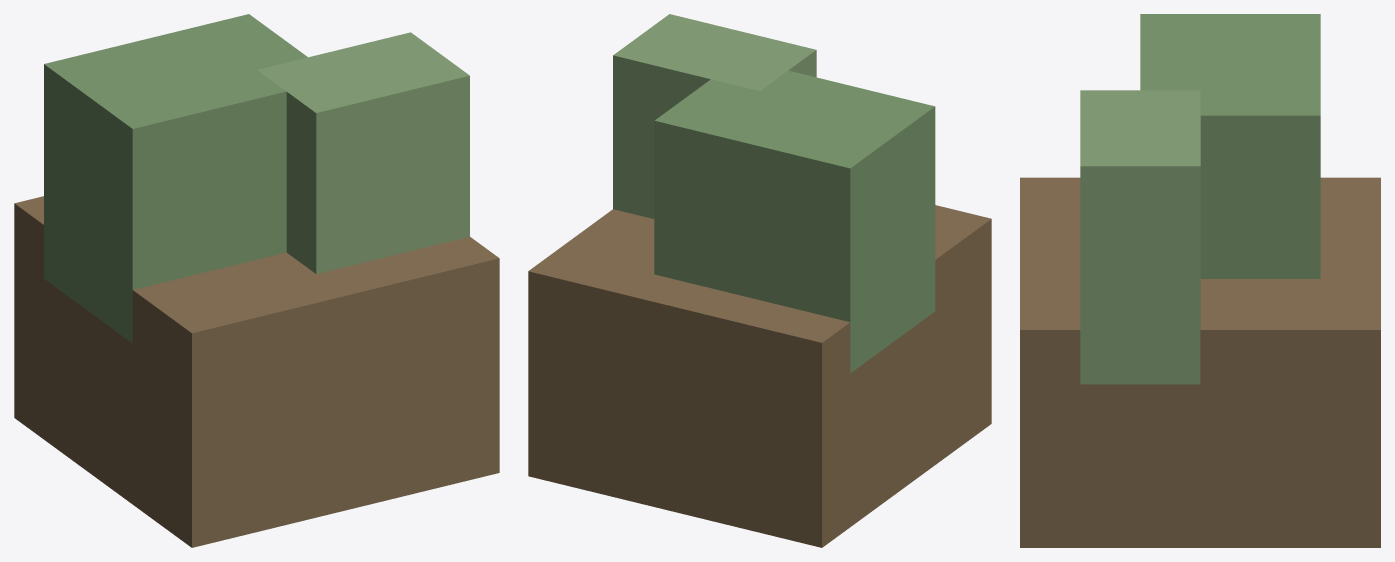
The model's file is macetero_pie_roble_01.glb.
The picture shows the model from 3 angles, left to right: view 1: azimuth 30°, elevation 25°; view 2: azimuth 150°, elevation 25°; view 3: azimuth 270°, elevation 25°; orthographic projection. The views are drawn at different scales.
Parts seen in each view (by area): view 1: macetero_pie_roble; view 2: macetero_pie_roble; view 3: macetero_pie_roble.
Boxes of the visible parts, x1,y1,x2,y2 form: macetero_pie_roble: (14, 14, 499, 547); macetero_pie_roble: (528, 14, 991, 547); macetero_pie_roble: (1020, 14, 1380, 547).
Size of the model in its own units: 0.6 by 0.7 by 0.6.
